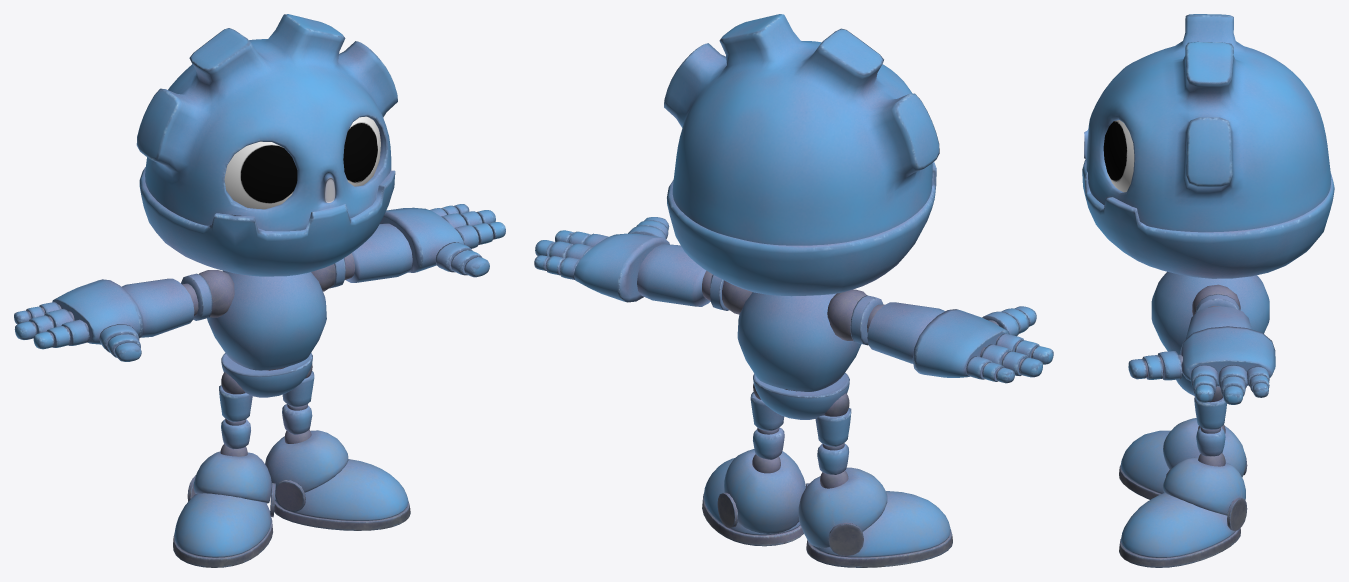
File: robot_delivery.fbx
The picture shows the model from 3 angles, left to right: view 1: azimuth 30°, elevation 25°; view 2: azimuth 150°, elevation 25°; view 3: azimuth 270°, elevation 25°; orthographic projection. The views are drawn at different scales.
Visible parts, largest first — view 1: head, leg_L, arm_R, leg_R, jaw, arm_L, chest, eye_R, hips, eye_L; view 2: head, leg_R, arm_R, jaw, arm_L, leg_L, chest, hips; view 3: head, leg_L, jaw, arm_L, chest, leg_R, eye_L.
Boxes of the visible parts, bbox=[...] form: head: bbox=[136, 14, 397, 231]; leg_L: bbox=[265, 363, 410, 530]; arm_R: bbox=[14, 270, 234, 361]; leg_R: bbox=[173, 372, 275, 567]; jaw: bbox=[139, 167, 395, 276]; arm_L: bbox=[311, 204, 505, 291]; chest: bbox=[207, 270, 326, 370]; eye_R: bbox=[224, 141, 297, 209]; hips: bbox=[221, 353, 312, 397]; eye_L: bbox=[343, 116, 380, 186]; head: bbox=[664, 14, 939, 245]; leg_R: bbox=[798, 393, 952, 567]; arm_R: bbox=[827, 289, 1053, 383]; jaw: bbox=[667, 162, 936, 296]; arm_L: bbox=[534, 217, 752, 314]; leg_L: bbox=[702, 383, 809, 546]; chest: bbox=[737, 292, 861, 391]; hips: bbox=[753, 373, 849, 419]; head: bbox=[1084, 14, 1331, 232]; leg_L: bbox=[1119, 386, 1247, 567]; jaw: bbox=[1082, 159, 1334, 278]; arm_L: bbox=[1128, 284, 1275, 404]; chest: bbox=[1151, 271, 1269, 354]; leg_R: bbox=[1119, 418, 1247, 499]; eye_L: bbox=[1103, 120, 1134, 192].
Size of the model in its own units: 42.31 by 41.25 by 19.45.
